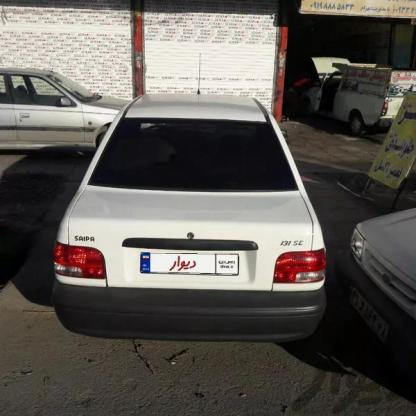Car: (44, 94, 338, 342), (348, 201, 416, 395), (0, 67, 144, 144), (320, 61, 416, 147)
